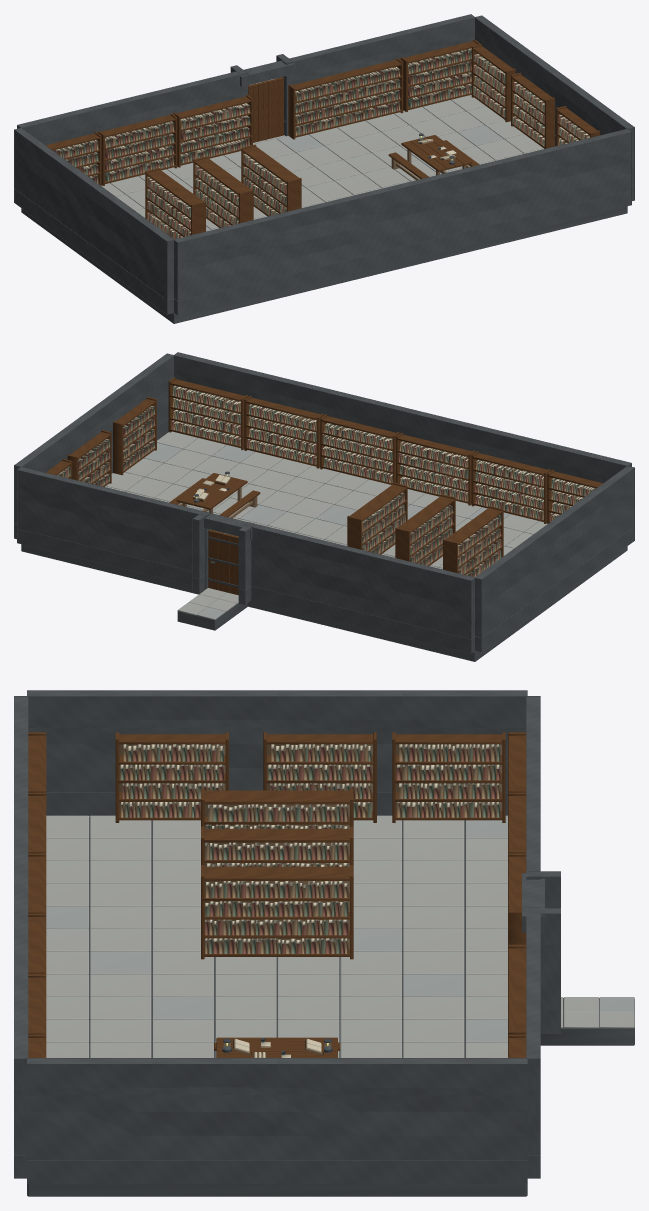
The model's file is retreat_expanded_a4.glb.
3 renders of one model, top to bottom at view 1: azimuth 30°, elevation 25°; view 2: azimuth 150°, elevation 25°; view 3: azimuth 270°, elevation 25°, orthographic. The views are drawn at different scales.
Visible parts, largest first — view 1: North_Wall_Upper.001, CANON_Floor_Library, West_Wall_Upper, North_Wall_Base.001, CANON_South_Bookcase_2, South_Wall_West_Upper, South_Wall_East_Upper, East_Wall_Upper.001, CANON_South_Bookcase_0, CANON_South_Bookcase_1, Expanded_South_Bookcase_East, CANON_Independent_Shelf_1 (+11 smaller); view 2: CANON_Floor_Library, South_Wall_West_Upper, North_Wall_Upper.001, South_Wall_East_Upper, West_Wall_Upper, East_Wall_Upper.001, Expanded_North_Bookcase_5, Expanded_North_Bookcase_4, CANON_North_Bookcase_1, CANON_North_Bookcase_3, CANON_North_Bookcase_2, South_Wall_West_Base (+15 smaller); view 3: CANON_Floor_Library, East_Wall_Upper.001, West_Wall_Upper, CANON_Independent_Shelf_3, East_Wall_Base.001, CANON_West_Bookcase_0, Expanded_West_Bookcase_North, CANON_West_Bookcase_1, North_Wall_Upper.001, CANON_Independent_Shelf_1, CANON_Independent_Shelf_2, CANON_Floor_Entry_Threshold (+16 smaller).
Part boxes in pixels (x1,y1,x2,y2): North_Wall_Upper.001: (174, 128, 631, 301); CANON_Floor_Library: (21, 95, 627, 323); West_Wall_Upper: (14, 128, 173, 299); North_Wall_Base.001: (174, 190, 631, 315); CANON_South_Bookcase_2: (288, 58, 403, 139); South_Wall_West_Upper: (17, 69, 248, 145); South_Wall_East_Upper: (282, 14, 474, 121); East_Wall_Upper.001: (475, 15, 634, 186); CANON_South_Bookcase_0: (98, 113, 177, 185); CANON_South_Bookcase_1: (173, 95, 252, 167); Expanded_South_Bookcase_East: (400, 39, 480, 111); CANON_Independent_Shelf_1: (145, 168, 205, 239); CANON_Floor_Library: (21, 431, 627, 661); South_Wall_West_Upper: (244, 522, 475, 639); North_Wall_Upper.001: (174, 352, 631, 483); South_Wall_East_Upper: (17, 466, 210, 574); West_Wall_Upper: (475, 466, 634, 637); East_Wall_Upper.001: (14, 353, 173, 524); Expanded_North_Bookcase_5: (168, 377, 248, 450); Expanded_North_Bookcase_4: (244, 396, 323, 468); CANON_North_Bookcase_1: (471, 451, 550, 523); CANON_North_Bookcase_3: (320, 414, 399, 484); CANON_North_Bookcase_2: (396, 433, 475, 505); South_Wall_West_Base: (251, 586, 474, 653); CANON_Floor_Library: (27, 815, 527, 1196); East_Wall_Upper.001: (27, 1058, 527, 1160); West_Wall_Upper: (27, 690, 527, 792); CANON_Independent_Shelf_3: (201, 865, 353, 959); East_Wall_Base.001: (27, 1160, 527, 1183); CANON_West_Bookcase_0: (392, 732, 505, 822); Expanded_West_Bookcase_North: (115, 732, 228, 822); CANON_West_Bookcase_1: (263, 732, 376, 822); North_Wall_Upper.001: (14, 696, 28, 1154); CANON_Independent_Shelf_1: (201, 788, 353, 828); CANON_Independent_Shelf_2: (201, 826, 353, 866); CANON_Floor_Entry_Threshold: (540, 997, 634, 1045).
Size of the model in its own units: 18.54 by 3.2 by 13.02.
12 materials, 2 textured.
